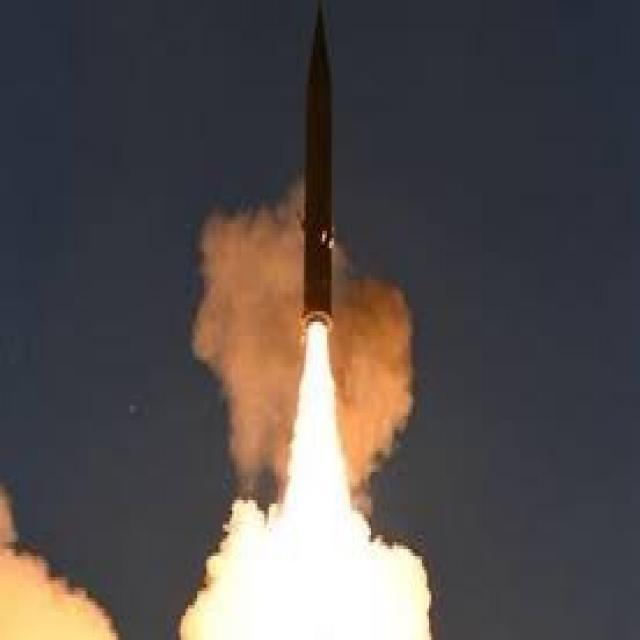Missile: (296, 9, 342, 334)
